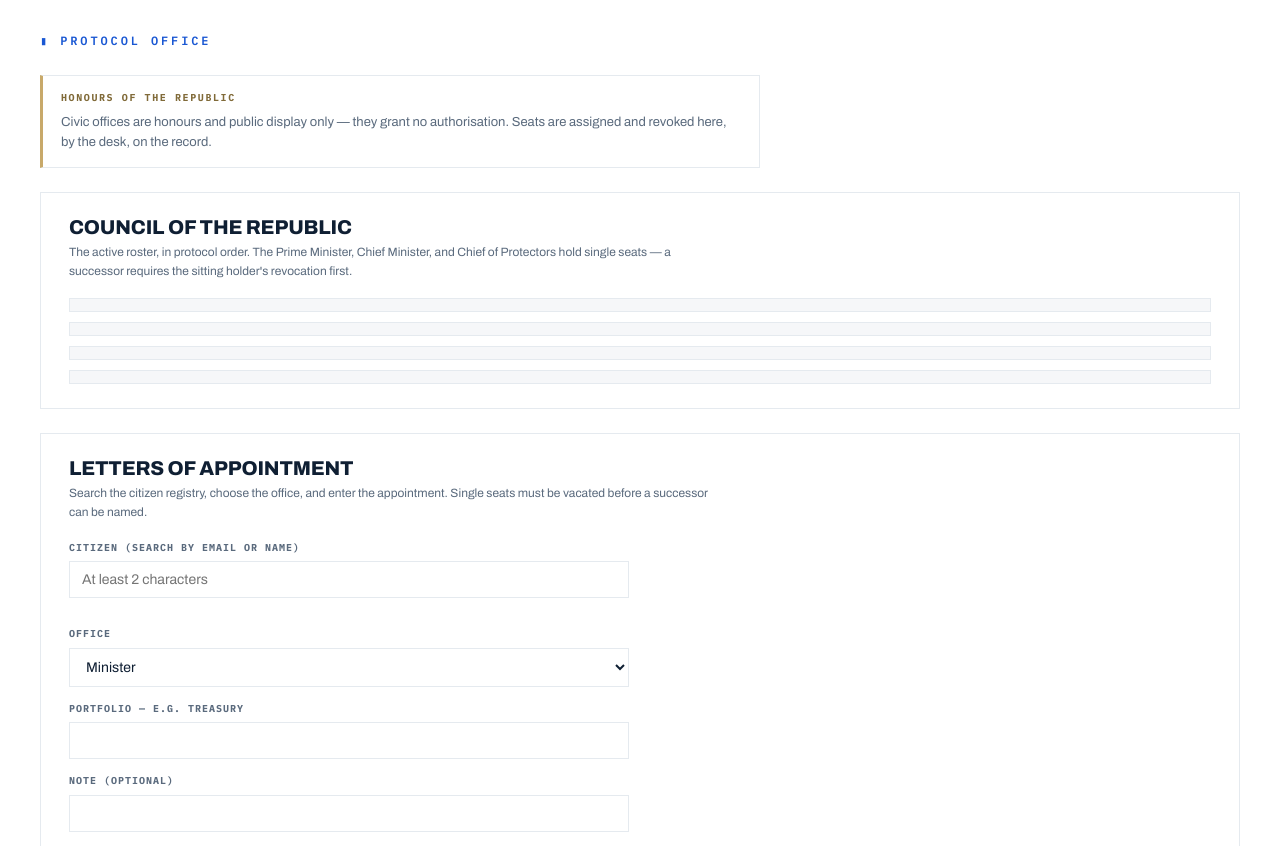
Scenario: OfficesDeskApp › marks single-seat offices in the office select and hides portfolio for them
Expected: the field labelled "Portfolio — e.g. Treasury" is shown, [69,722,629,759]
Select "Protector" in the dropdown labelled "Office" at (349, 667), box [69,648,629,687]
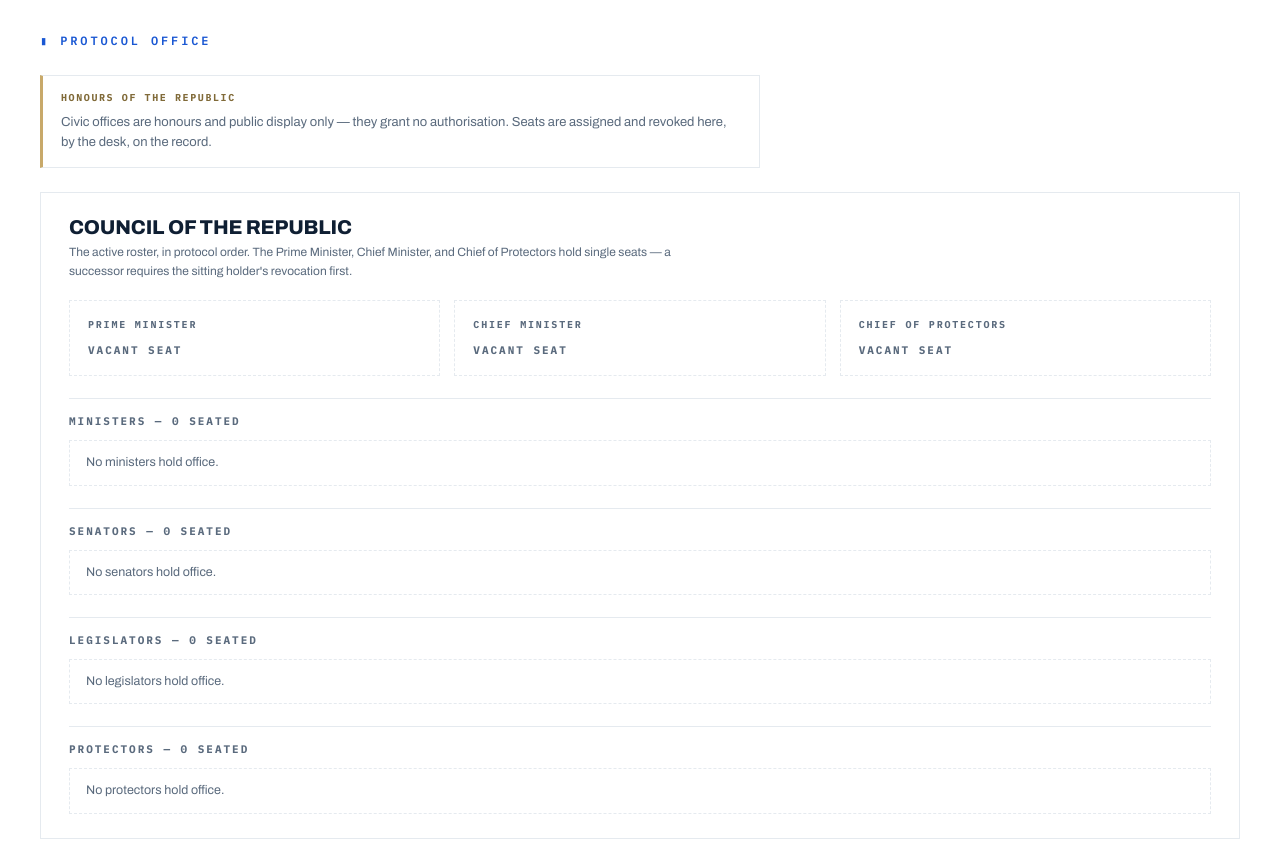
Expected: the label labelled "Portfolio" is gone
